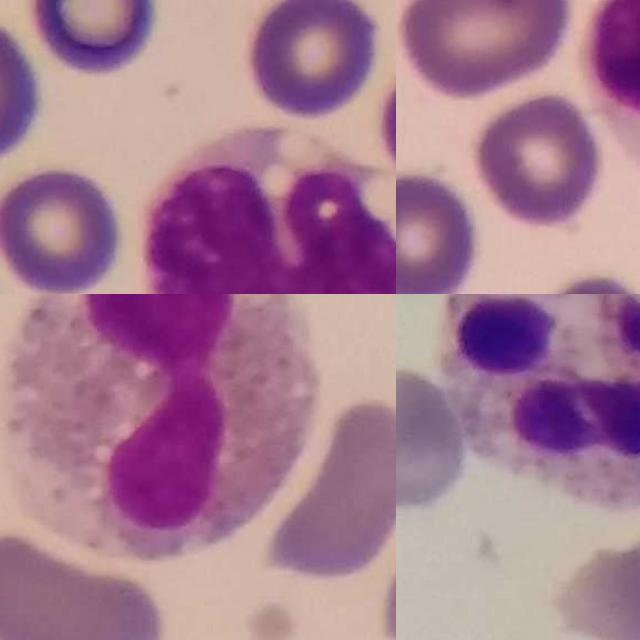Eosinophil: (4, 294, 318, 564)
Monocyte: (148, 125, 396, 294)
Neutrophil: (439, 294, 640, 504)
